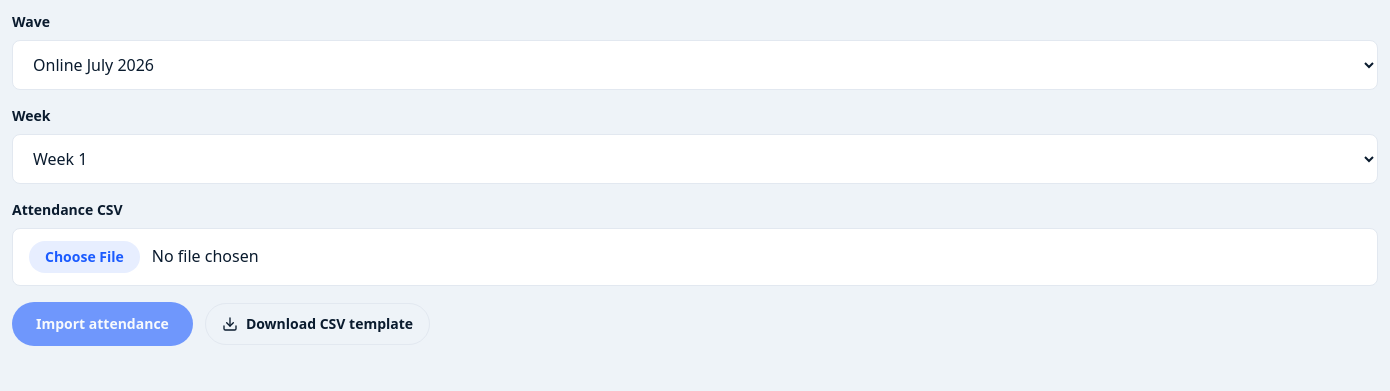
OnlineAttendanceUpload (US3) › lists the online waves and follows the selection with weeks
This screenshot has width=1390, height=391.
Select "Online Empty" in the dropdown labelled "Wave" at [695, 65], box [12, 40, 1378, 90]
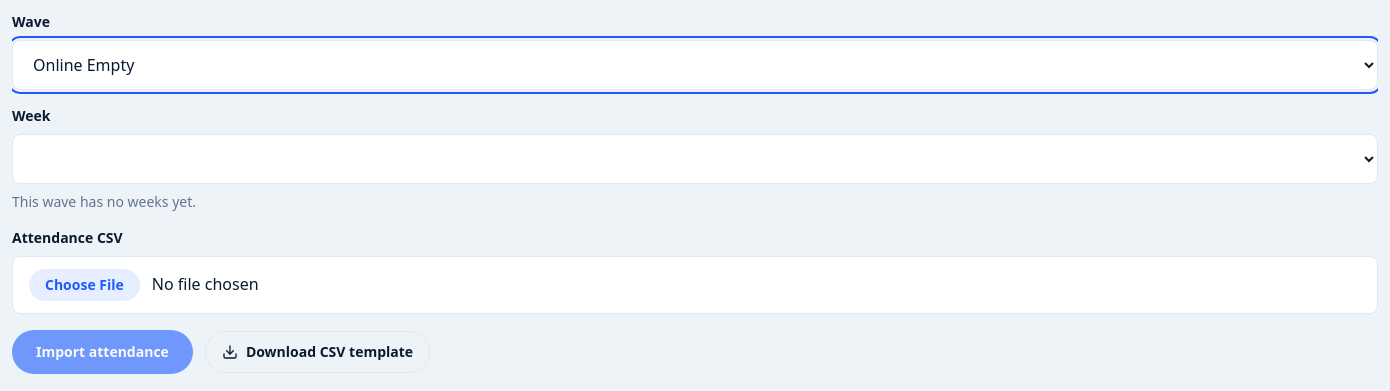
expect the button "Import attendance" is disabled: met, box [12, 330, 193, 374]
expect the text "This wave has no weeks yet." is shown: met, box [12, 192, 196, 211]
